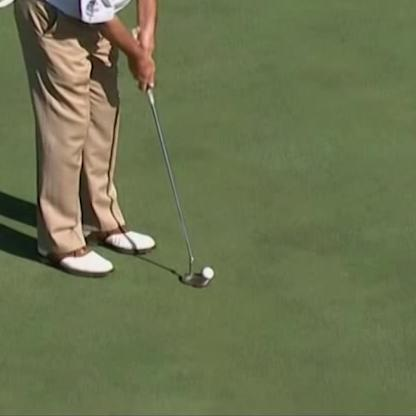golfball: (201, 261, 214, 277)
